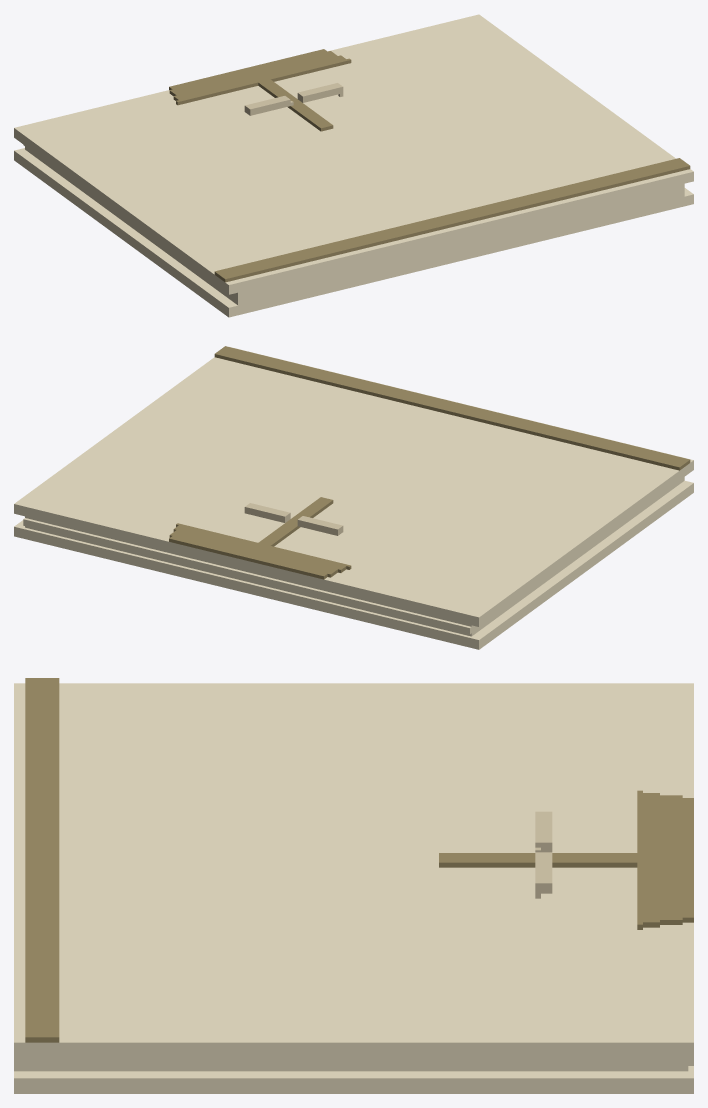
Rendered from tunic.glb.
3 renders of one model, top to bottom at view 1: azimuth 30°, elevation 25°; view 2: azimuth 150°, elevation 25°; view 3: azimuth 270°, elevation 25°, orthographic. The views are drawn at different scales.
Visible parts, largest first — view 1: tunic:compound; view 2: tunic:compound; view 3: tunic:compound.
Boxes of the visible parts, <box> form: tunic:compound: <box>14,14,693,317</box>; tunic:compound: <box>14,346,693,649</box>; tunic:compound: <box>14,678,693,1093</box>.
Size of the model in its own units: 0.3 by 0.026 by 0.24.
